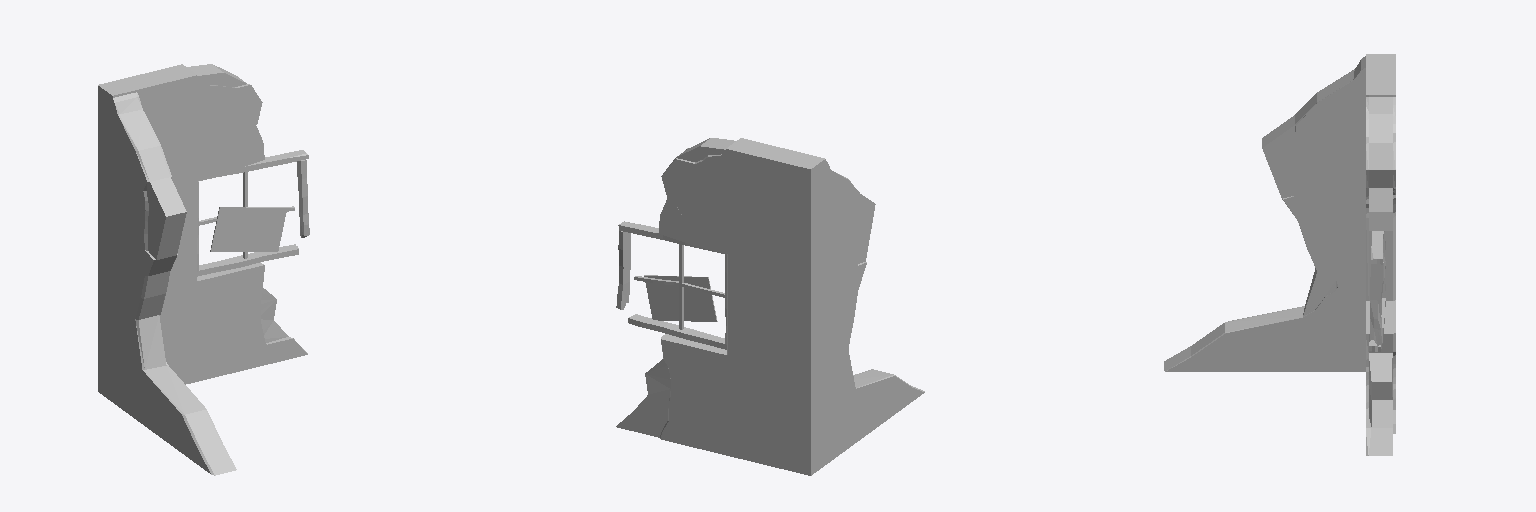
Rendered from ruin.obj.
The picture shows the model from 3 angles: view 1: azimuth 30°, elevation 25°; view 2: azimuth 150°, elevation 25°; view 3: azimuth 270°, elevation 25°; orthographic projection.
Parts seen in each view (by area): view 1: Wall; view 2: Wall; view 3: Wall.
Boxes of the visible parts, <box> form: Wall: <box>98,64,309,475</box>; Wall: <box>616,138,924,475</box>; Wall: <box>1164,54,1395,455</box>.
Bounding box in the file's own units: 194 × 282 × 193.